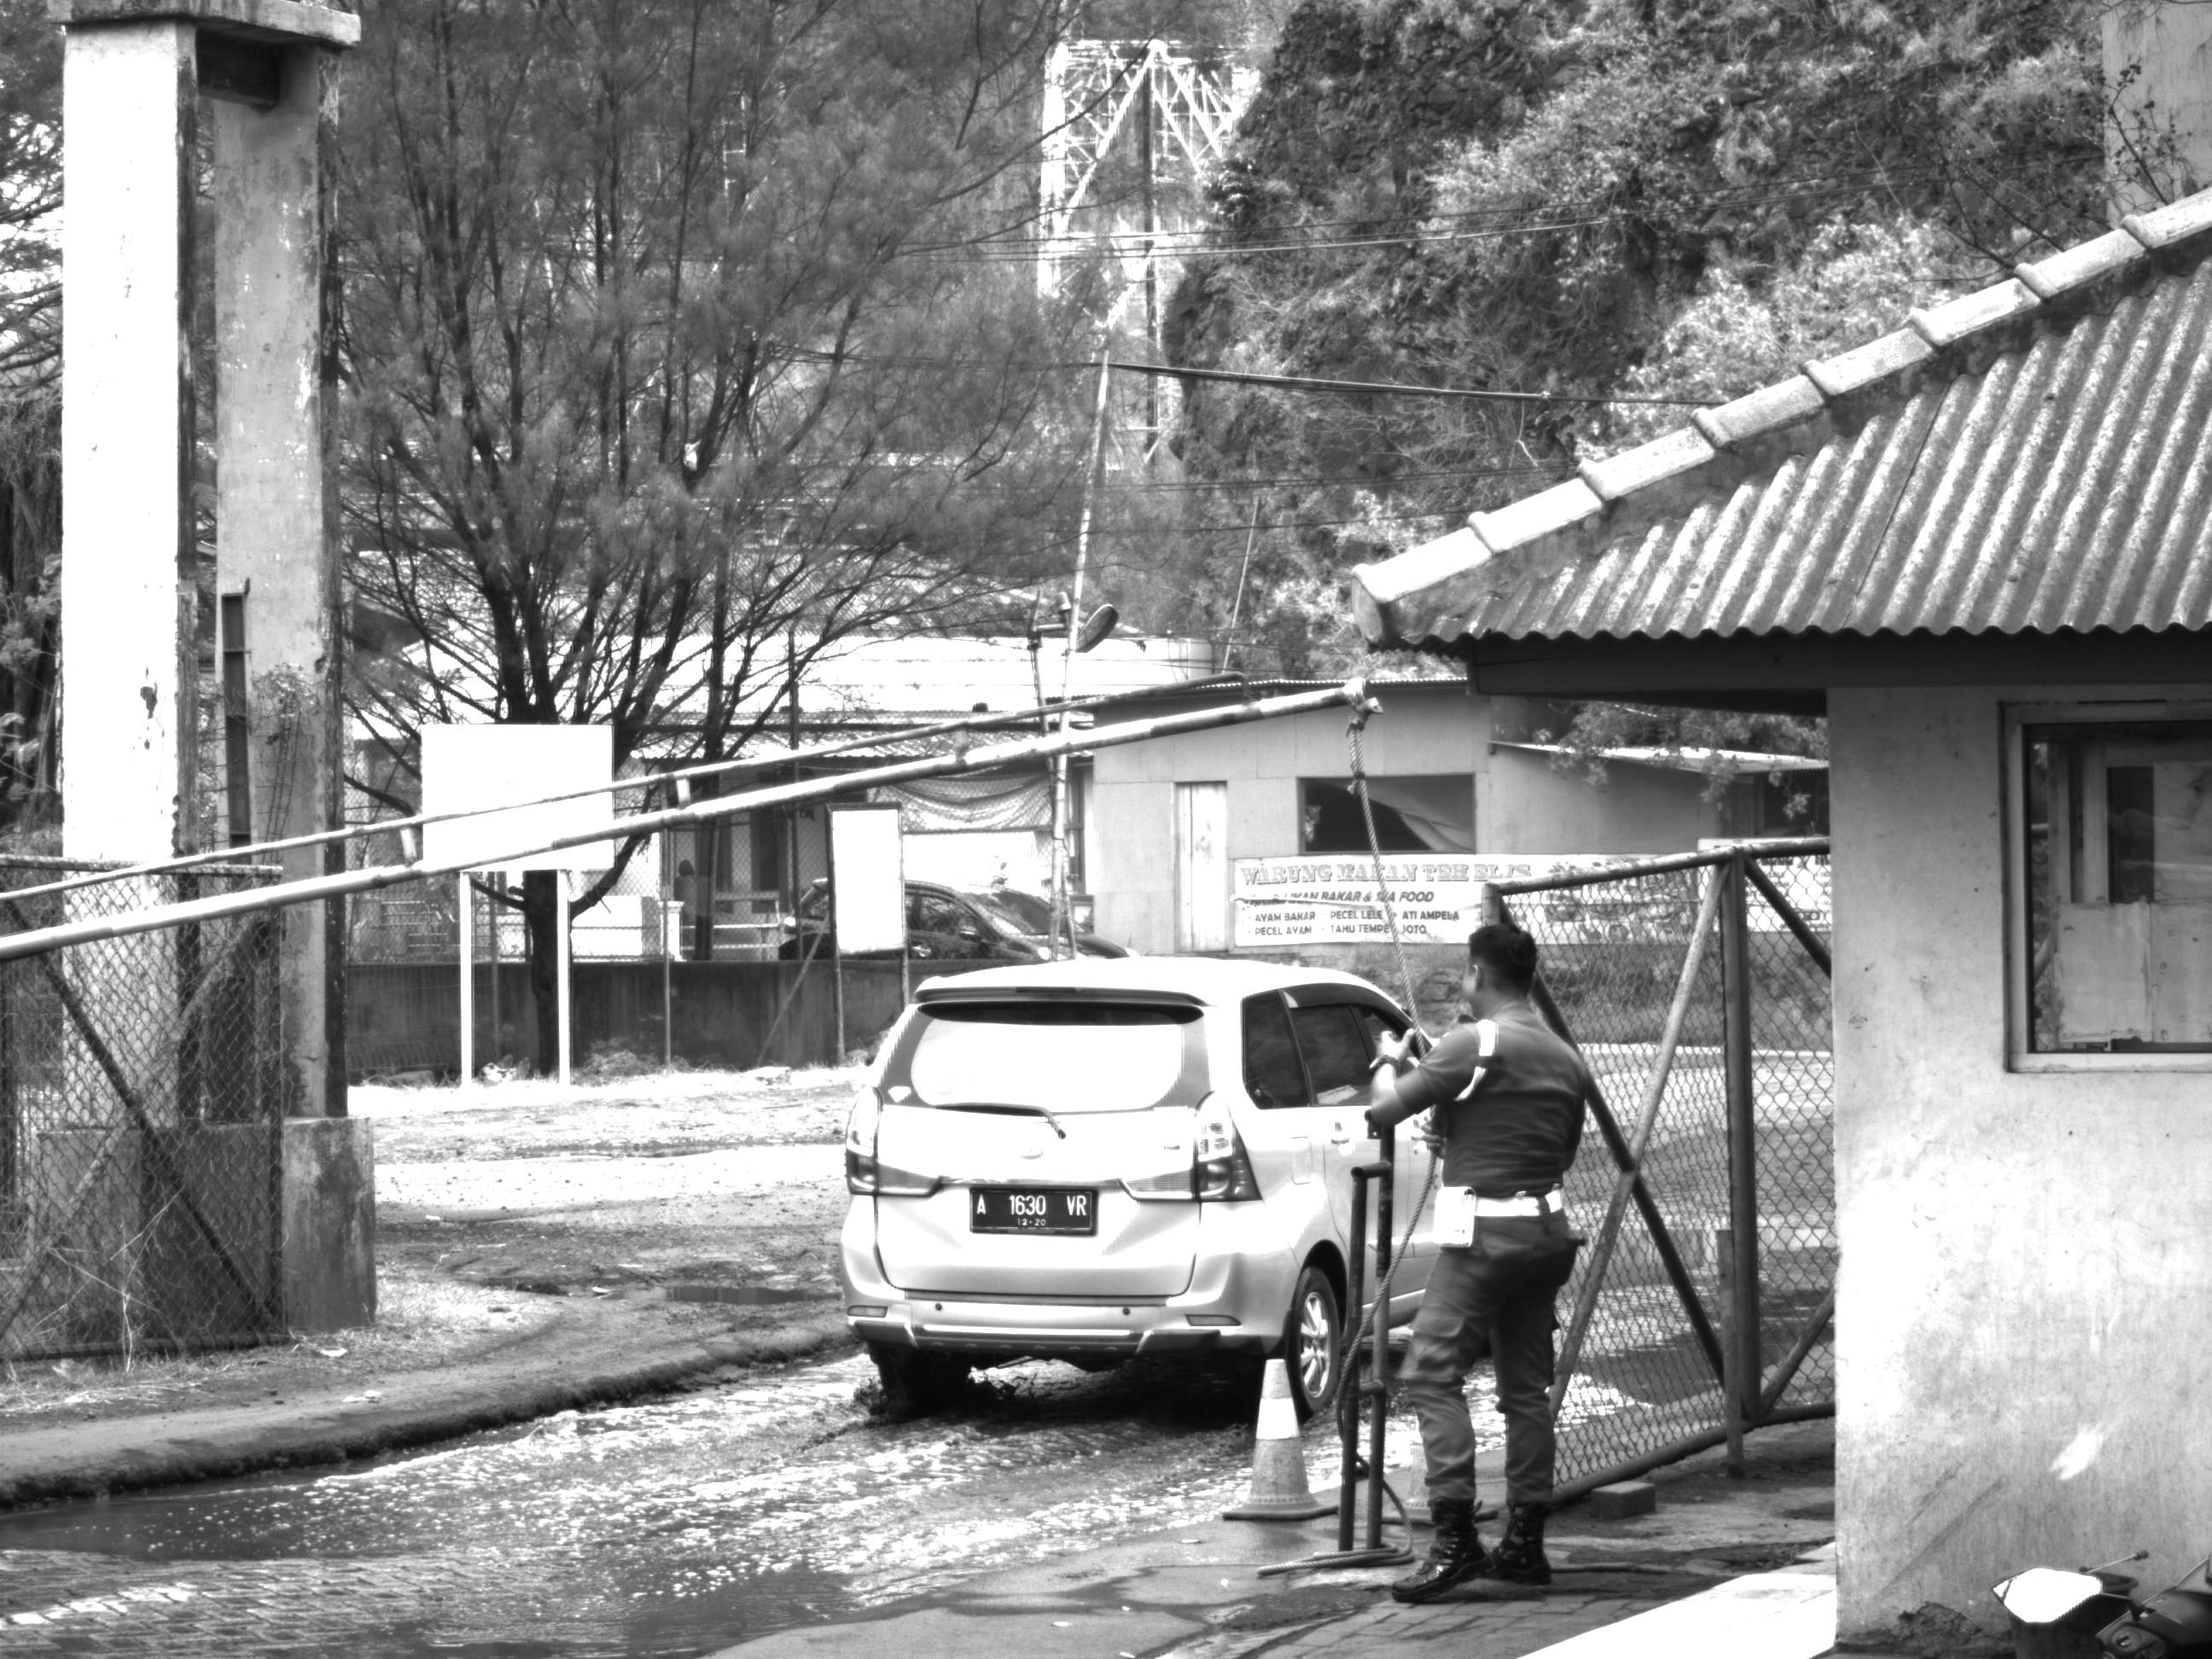day_small_rear: (841, 963, 1371, 1428)
plate: (967, 1187, 1101, 1239)
